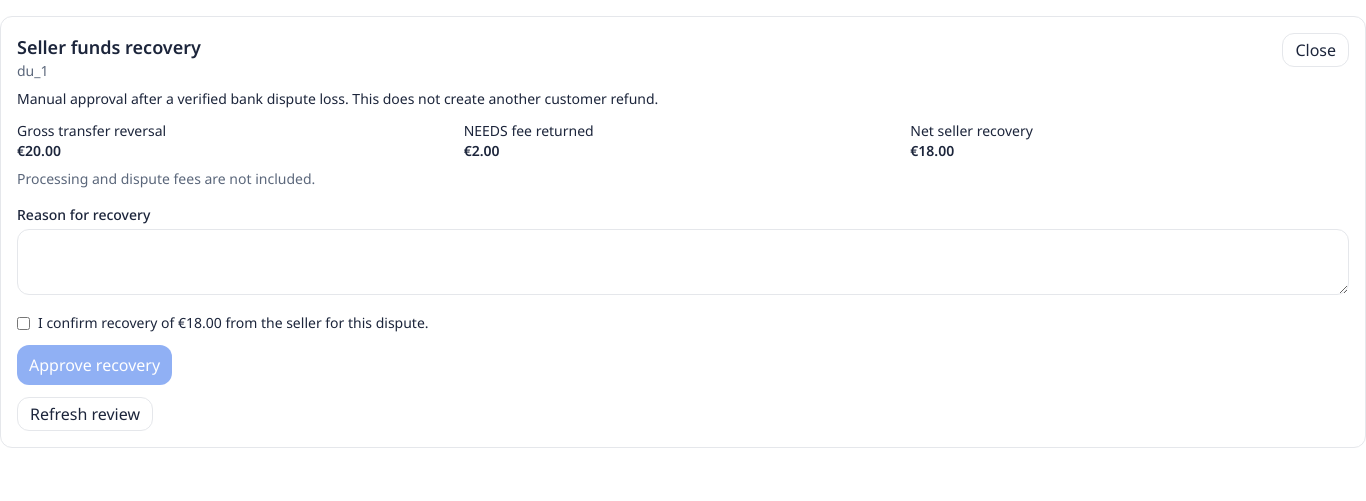
Test: admin-approved seller recovery › surfaces stale-preview failure without claiming money moved
Expected: the text "€18.00" is shown, [910, 141, 954, 160]
Type "Confirmed bank loss" into the text box labelled "Reason for recovery" at (683, 262), box [17, 229, 1349, 295]
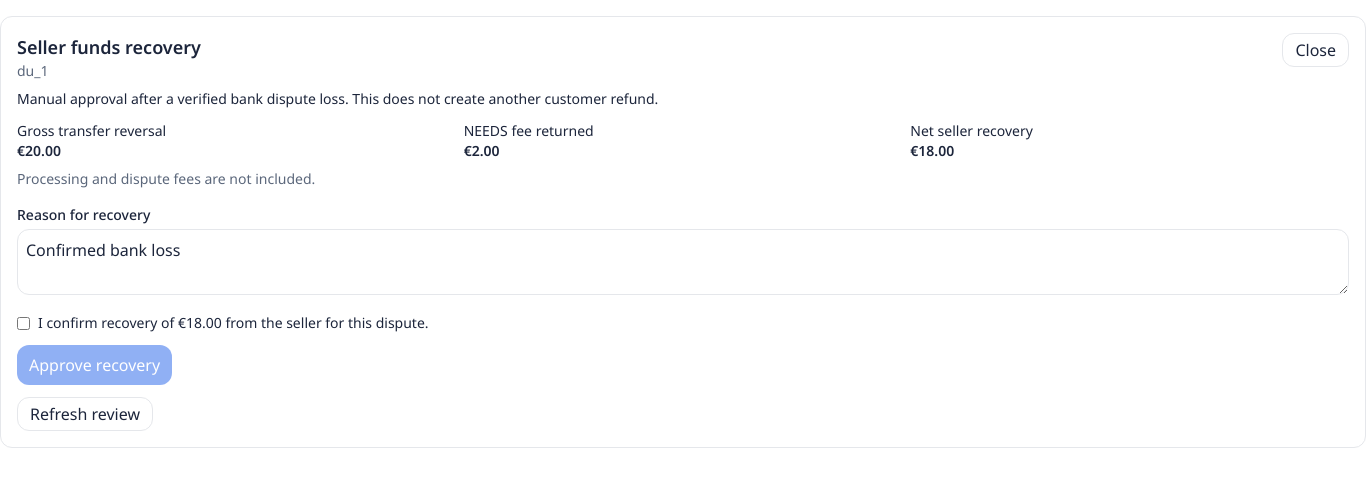
Click the checkbox at (24, 324), box [17, 317, 30, 330]
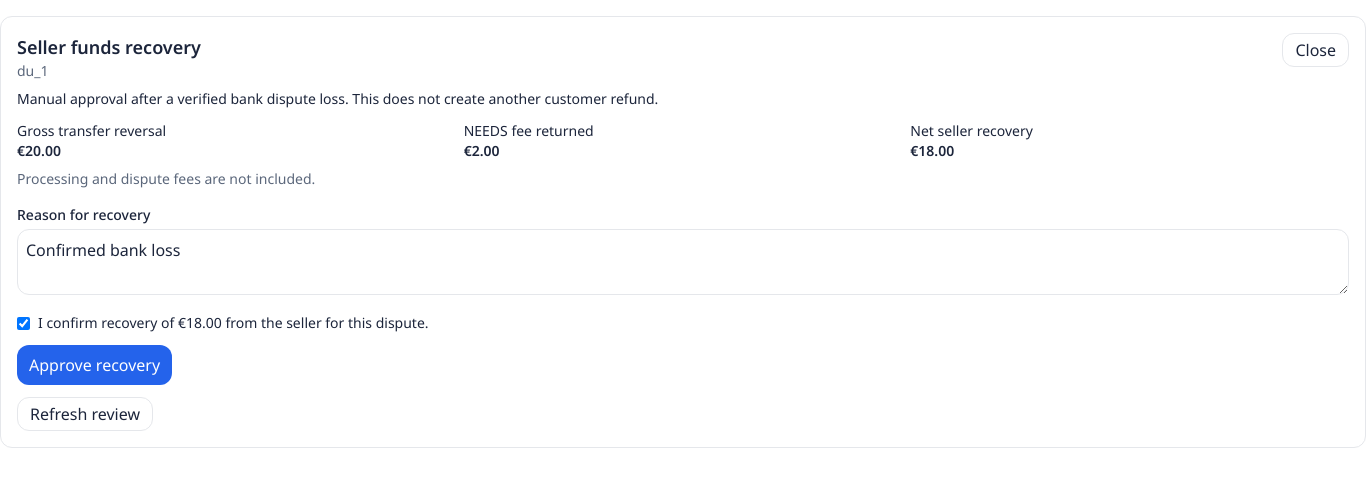
Click the button "Approve recovery" at (95, 365), box [17, 345, 172, 385]
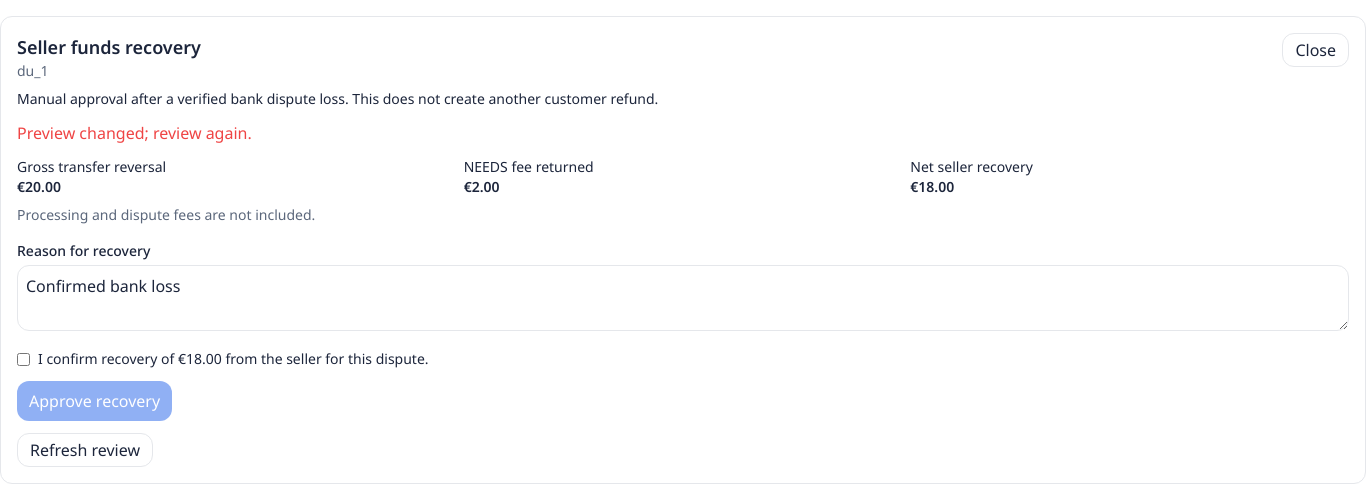
Expected: the message reads "Preview changed; review again.", [17, 122, 252, 144]
Expected: the button "Approve recovery" is disabled, [17, 381, 172, 421]
